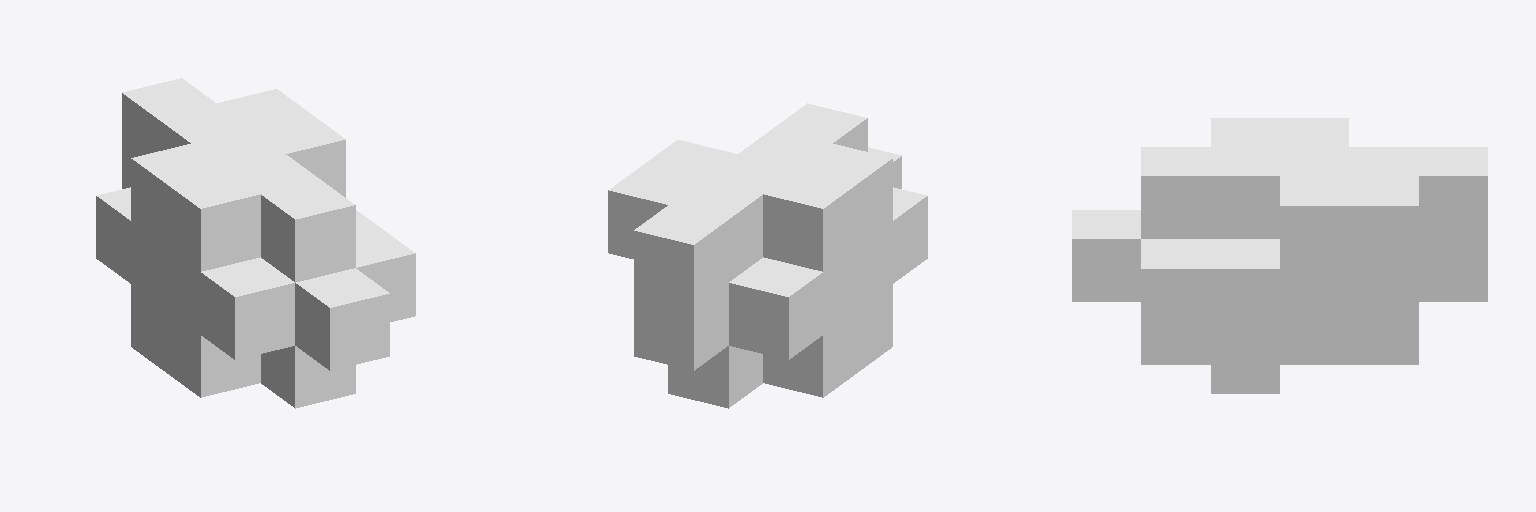
Rendered from EnemyAttack.obj.
The picture shows the model from 3 angles: view 1: azimuth 30°, elevation 25°; view 2: azimuth 150°, elevation 25°; view 3: azimuth 270°, elevation 25°; orthographic projection.
Parts seen in each view (by area): view 1: object 1; view 2: object 1; view 3: object 1.
Part boxes in pixels (x1,y1,x2,y2): object 1: (96,78,415,408); object 1: (608,103,927,408); object 1: (1072,118,1487,393).
Size of the model in its own units: 0.3 by 0.3 by 0.6.